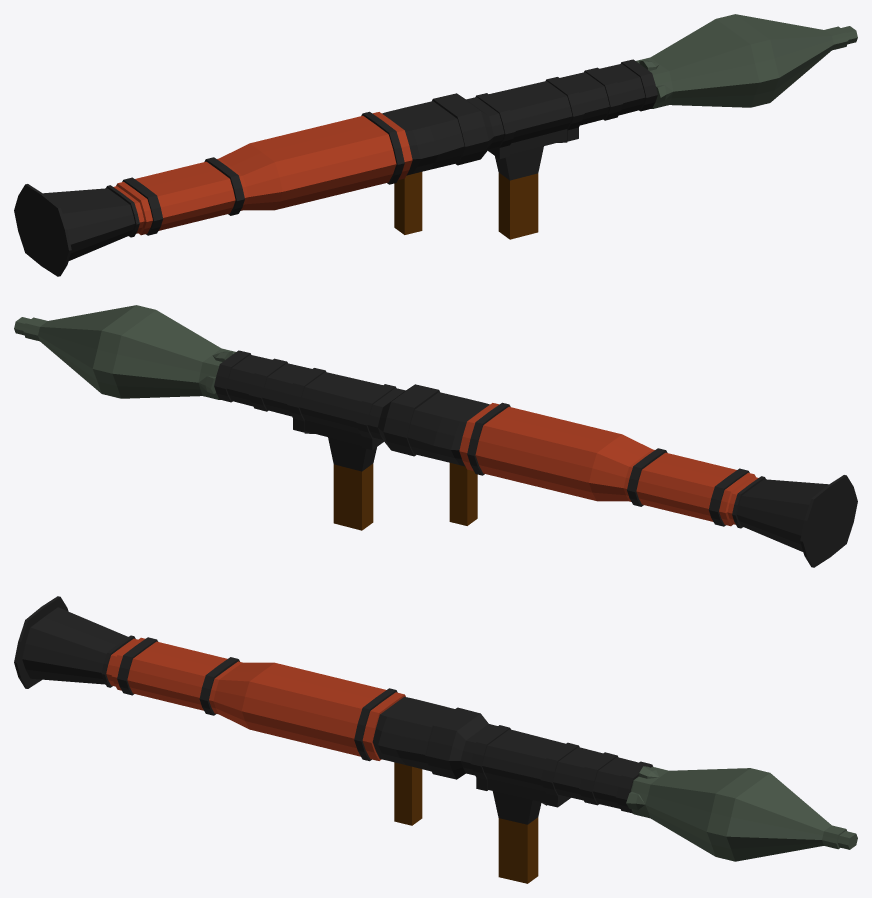
The model's file is RocketLauncher.fbx.
3 views of the same model, one above another, from view 1: azimuth 30°, elevation 25°; view 2: azimuth 150°, elevation 25°; view 3: azimuth 330°, elevation 25° (orthographic).
Parts seen in each view (by area): view 1: Cube, Cube.001; view 2: Cube, Cube.001; view 3: Cube, Cube.001.
Boxes of the visible parts, bbox=[...] form: Cube: bbox=[14, 59, 657, 276]; Cube.001: bbox=[636, 14, 857, 108]; Cube: bbox=[214, 350, 857, 567]; Cube.001: bbox=[14, 305, 235, 399]; Cube: bbox=[14, 596, 653, 883]; Cube.001: bbox=[626, 766, 857, 861].
Bounding box in the file's own units: 467 × 84.45 × 54.89.
